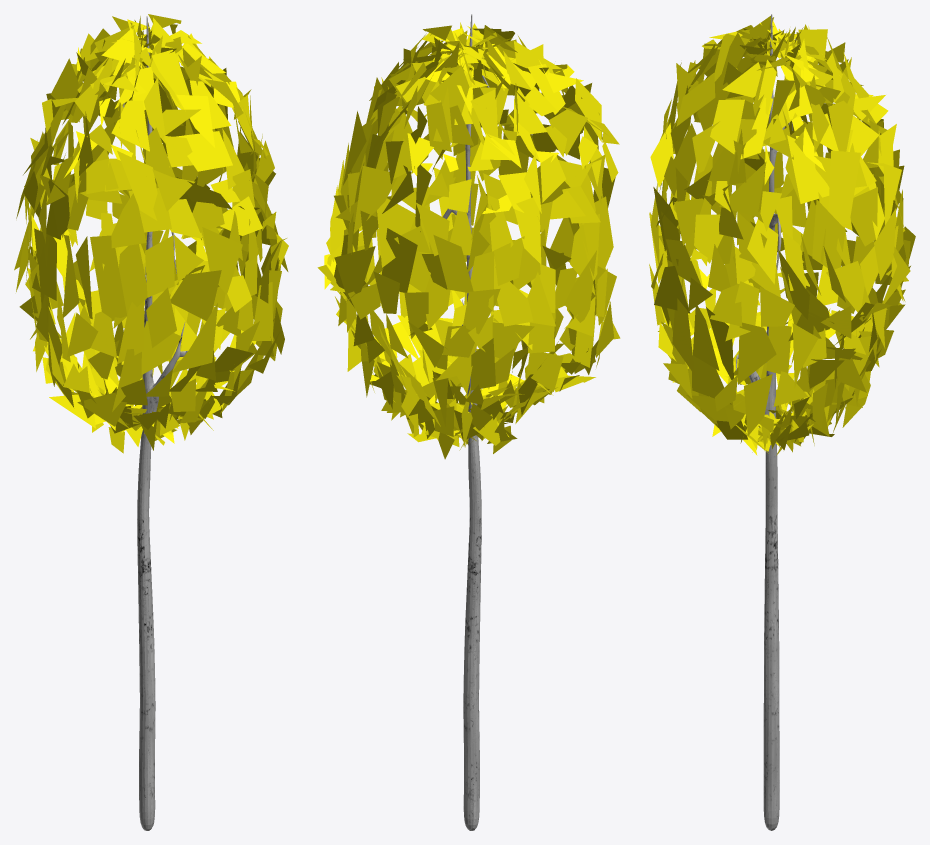
The model's file is Trunk1bake.018.fbx.
3 views of the same model, side by side, from view 1: azimuth 30°, elevation 25°; view 2: azimuth 150°, elevation 25°; view 3: azimuth 270°, elevation 25° (orthographic).
Visible parts, largest first — view 1: Trunk1bake.018; view 2: Trunk1bake.018; view 3: Trunk1bake.018.
Boxes of the visible parts, x1,y1,x2,y2 form: Trunk1bake.018: (14,14,288,830); Trunk1bake.018: (317,14,620,830); Trunk1bake.018: (649,14,915,830).
Bounding box in the file's own units: 816 × 2574 × 762.
2 materials, 1 textured.
